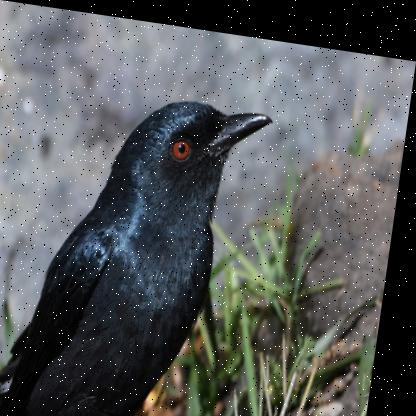Burung: (4, 73, 278, 415)
